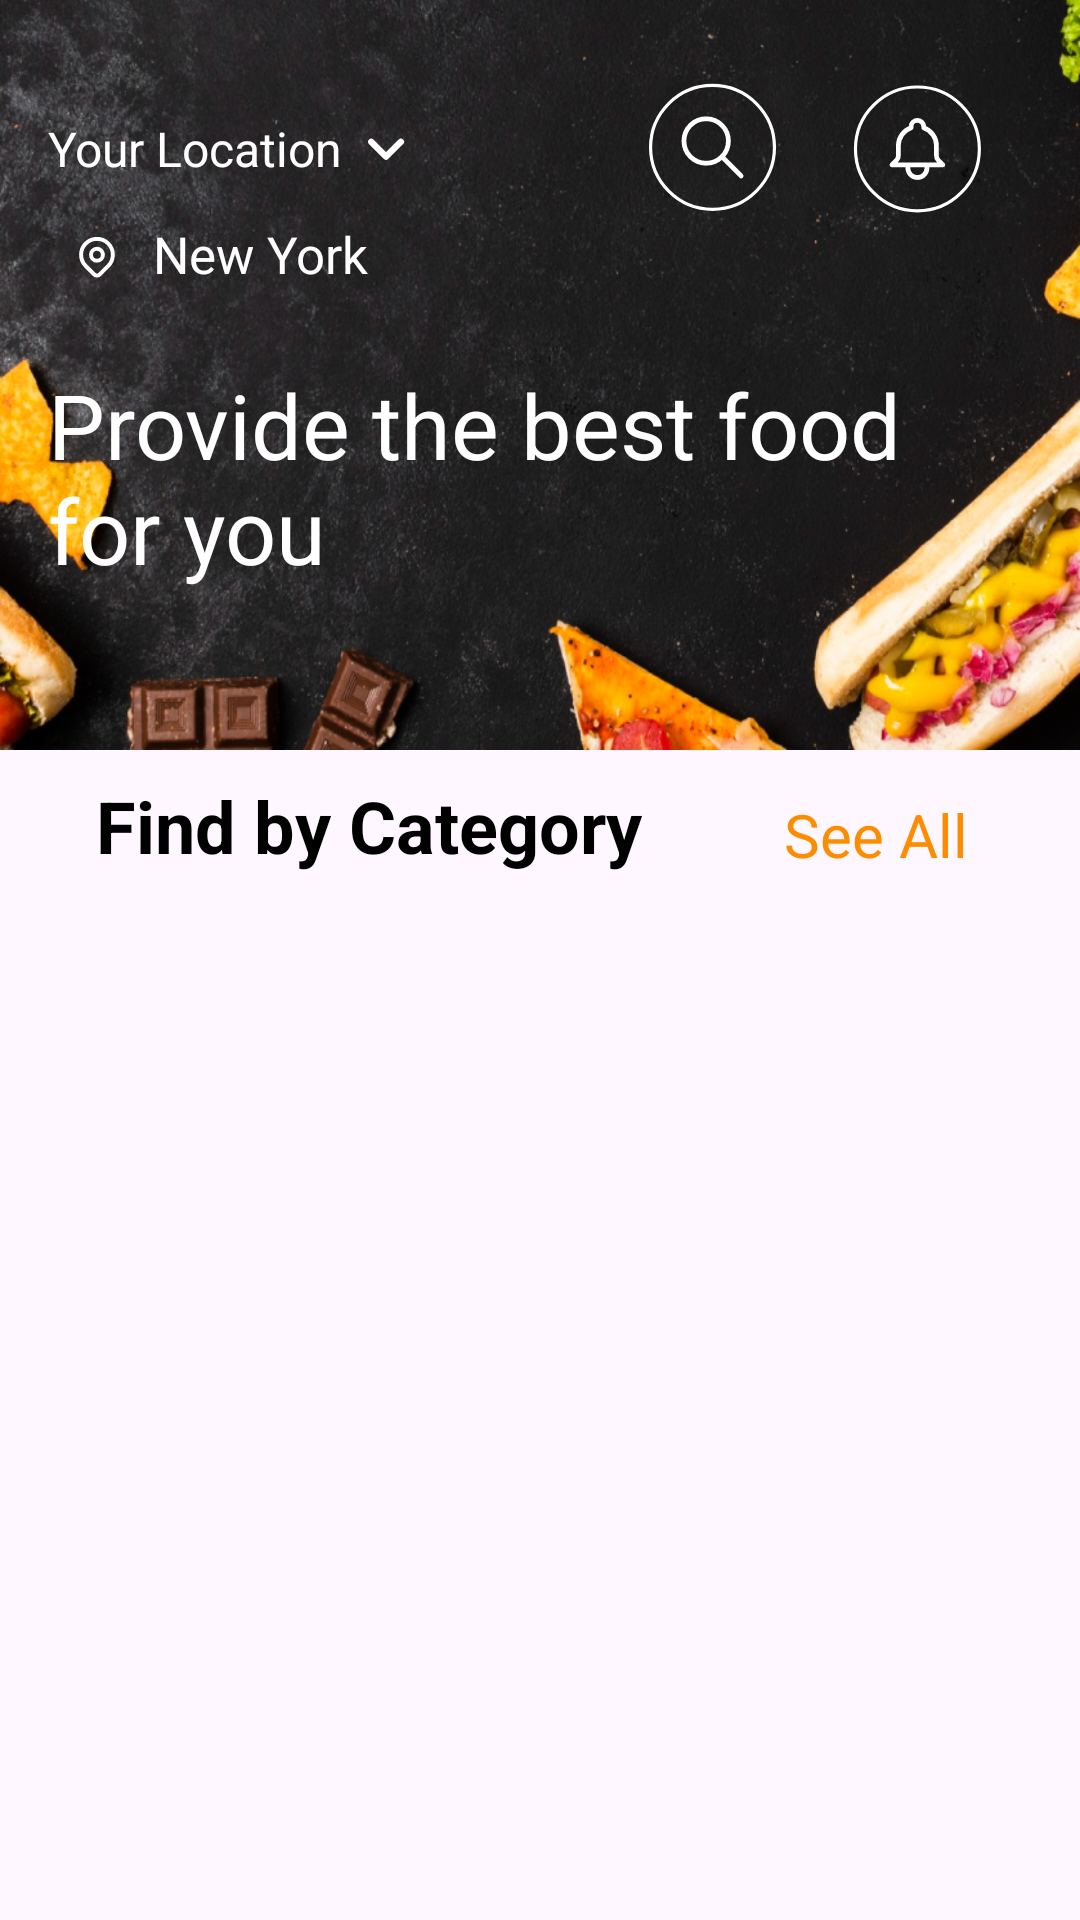

Named icons in this screenshot (1080 × 1920) and their centers, (x=x, y=y):
notification: (x=906, y=156)
search: (x=714, y=151)
